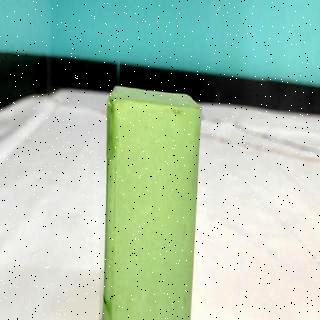greenbox: (105, 83, 204, 320)
